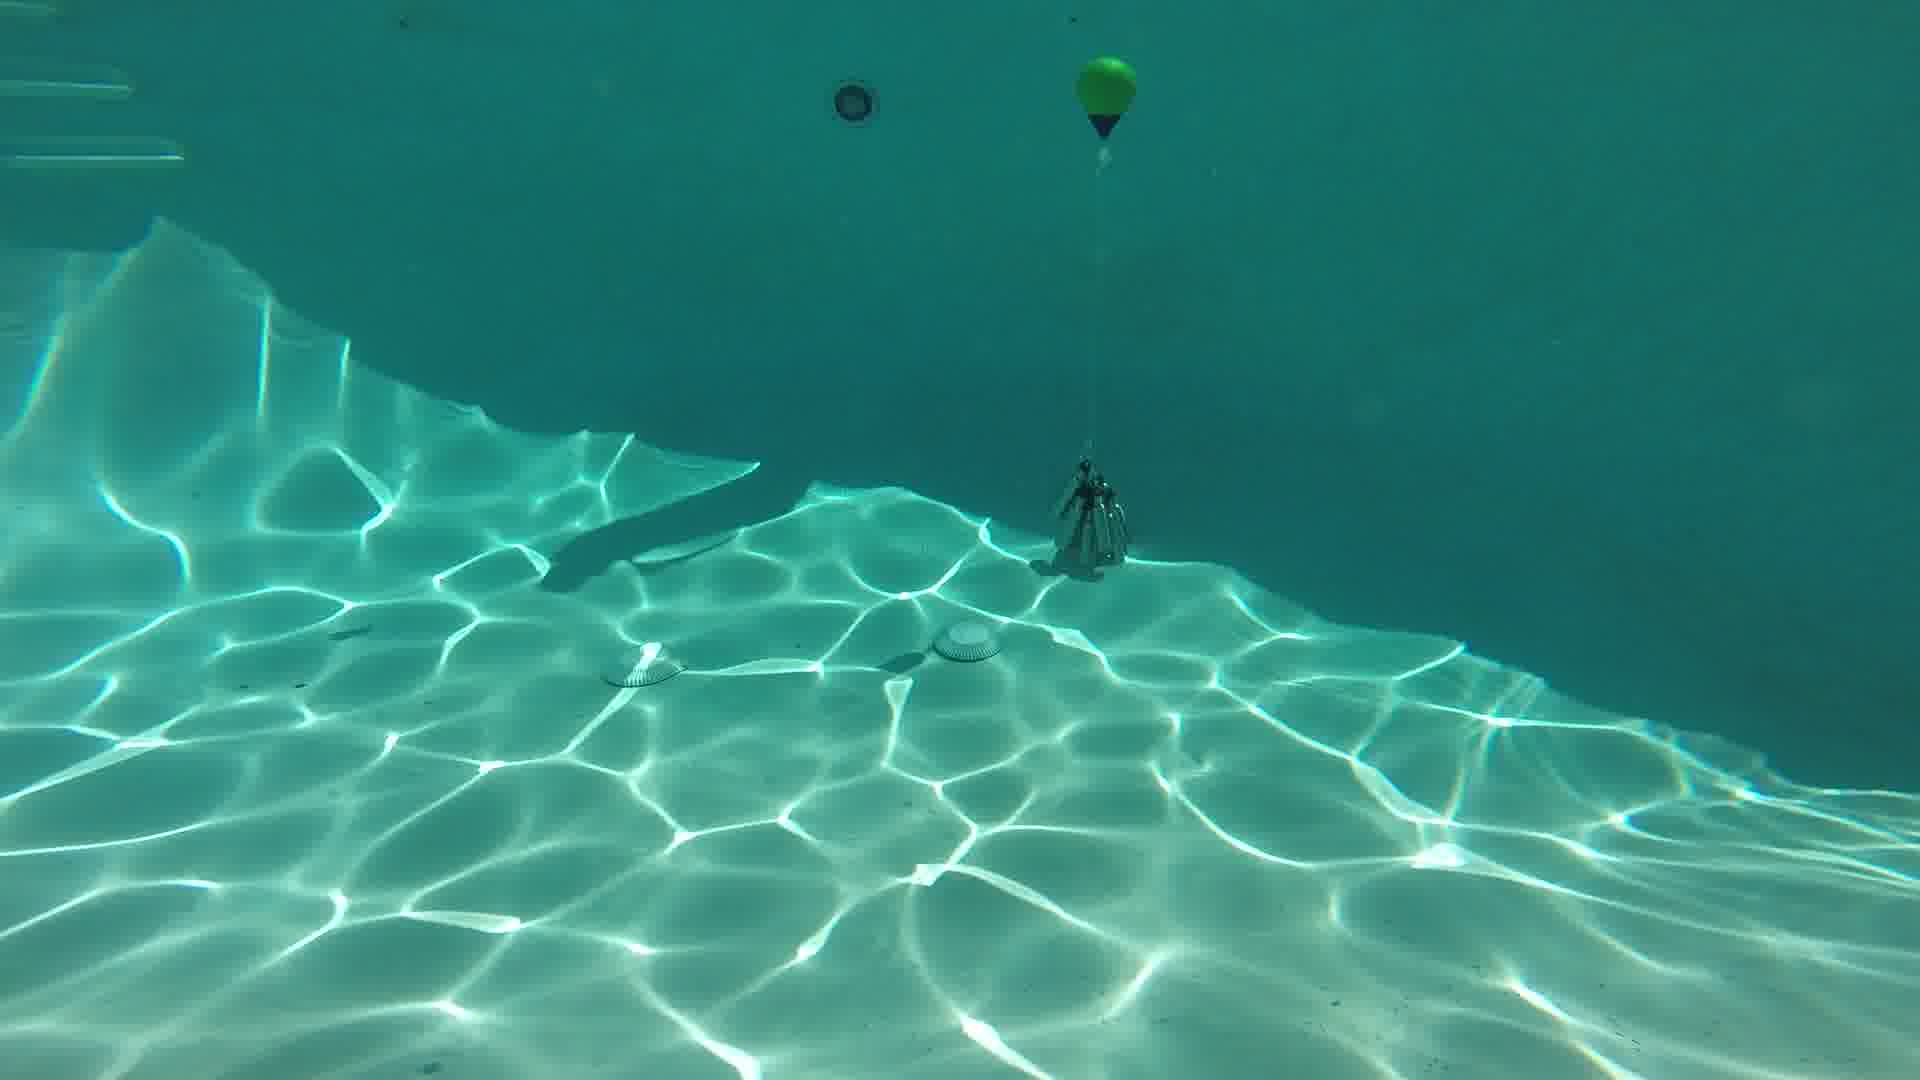yellow_buoy: (1075, 54, 1137, 137)
